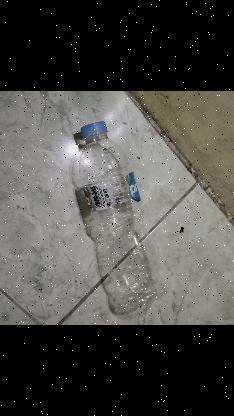Plastic Bottle: (74, 118, 166, 324)
